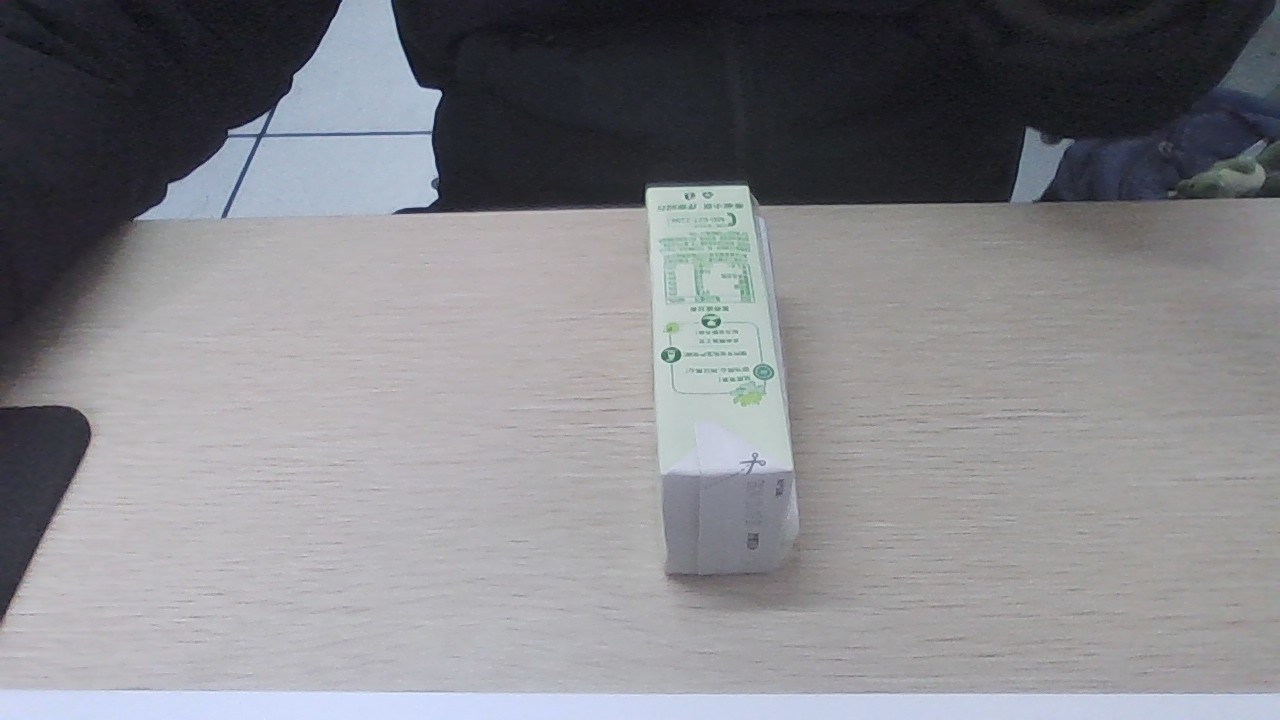CY-drink: (640, 186, 795, 580)
